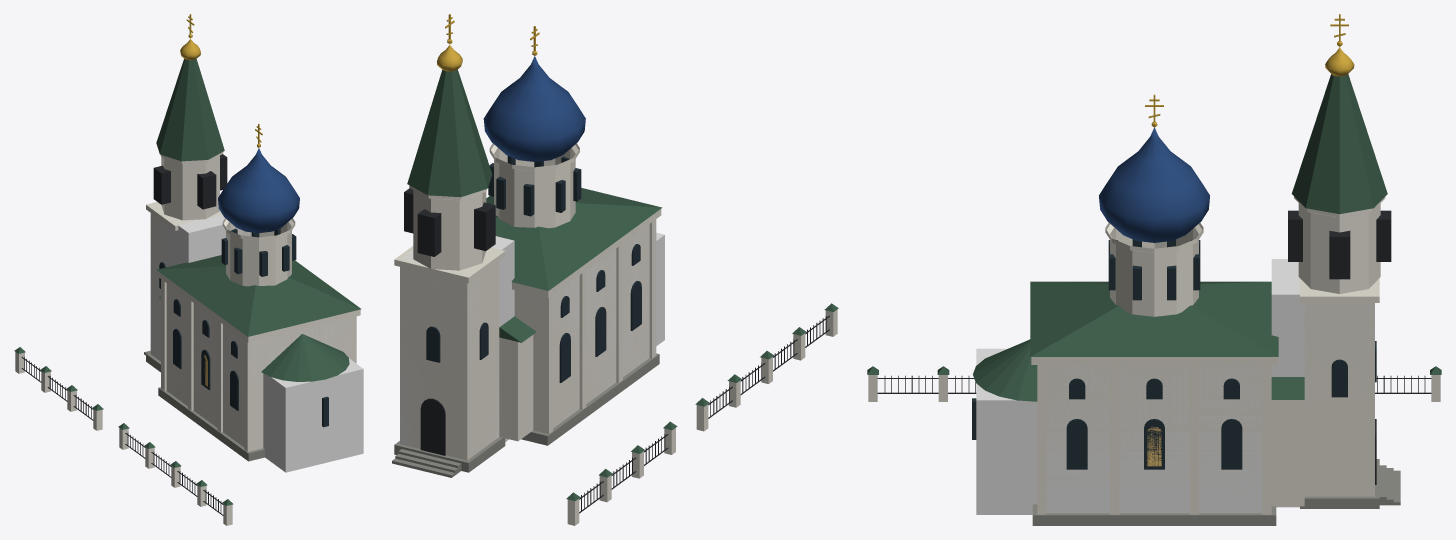
Rendered from mark-church.glb.
The picture shows the model from 3 angles, left to right: view 1: azimuth 30°, elevation 25°; view 2: azimuth 150°, elevation 25°; view 3: azimuth 270°, elevation 25°; orthographic projection. The views are drawn at different scales.
Parts seen in each view (by area): view 1: 01_#e4e0d4, 02_#3c5a48, solid.010, solid.009, 05_#2c4a7a, solid.011, 07_#2a2c30_noshadow, 03_#26343c_noshadow_r320, 00_#8a8a84, 06_#c9a13a_r320; view 2: 01_#e4e0d4, 02_#3c5a48, 05_#2c4a7a, solid.011, 07_#2a2c30_noshadow, solid.009, 03_#26343c_noshadow_r320, 00_#8a8a84, solid.010, 06_#c9a13a_r320; view 3: 01_#e4e0d4, 02_#3c5a48, solid.009, 05_#2c4a7a, solid.010, 03_#26343c_noshadow_r320, solid.011, 00_#8a8a84, 07_#2a2c30_noshadow, 06_#c9a13a_r320.
Boxes of the visible parts, box(x1,y1,x2,y2) form: 01_#e4e0d4: box(15, 152, 360, 525); 02_#3c5a48: box(14, 59, 361, 505); solid.010: box(263, 358, 363, 472); solid.009: box(166, 283, 354, 433); 05_#2c4a7a: box(218, 148, 299, 232); solid.011: box(150, 205, 225, 361); 07_#2a2c30_noshadow: box(21, 154, 227, 515); 03_#26343c_noshadow_r320: box(159, 228, 328, 427); 00_#8a8a84: box(144, 350, 264, 461); 06_#c9a13a_r320: box(180, 14, 262, 147); 01_#e4e0d4: box(394, 143, 837, 525); 02_#3c5a48: box(407, 69, 838, 501); 05_#2c4a7a: box(483, 56, 585, 161); solid.011: box(400, 236, 514, 447); 07_#2a2c30_noshadow: box(404, 188, 829, 513); solid.009: box(515, 224, 649, 397); 03_#26343c_noshadow_r320: box(426, 156, 641, 382); 00_#8a8a84: box(392, 353, 659, 477); solid.010: box(656, 232, 664, 345); 06_#c9a13a_r320: box(437, 14, 539, 71); 01_#e4e0d4: box(868, 196, 1440, 514); 02_#3c5a48: box(867, 74, 1441, 401); solid.009: box(1046, 365, 1262, 513); 05_#2c4a7a: box(1099, 127, 1209, 242); solid.010: box(976, 348, 1037, 514); 03_#26343c_noshadow_r320: box(972, 239, 1376, 469); solid.011: box(1271, 259, 1374, 507); 00_#8a8a84: box(1032, 459, 1400, 525); 07_#2a2c30_noshadow: box(877, 210, 1431, 484); 06_#c9a13a_r320: box(1145, 14, 1354, 127).
Bounding box in the file's own units: 13.05 × 22.35 × 24.5.
